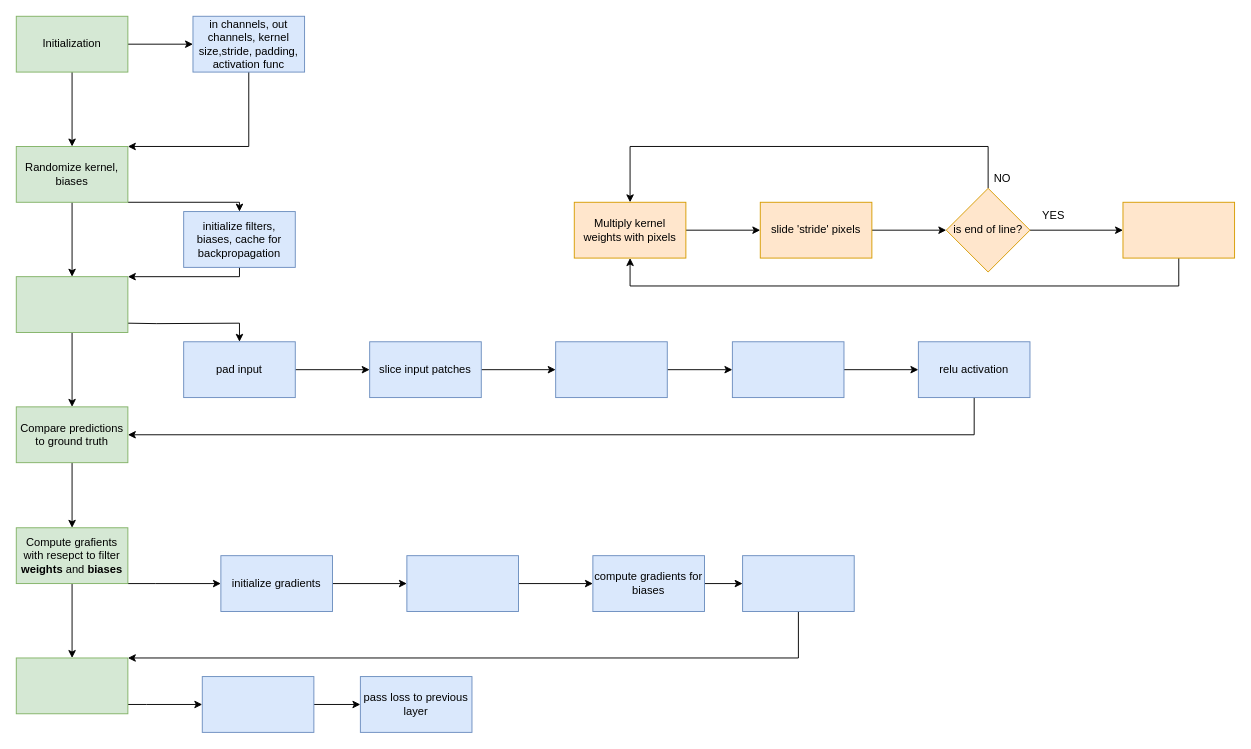
Some shapes in this 1251 by 749 pixel diagram are drawn without their labels. Here are the shapes that lost their labels. From the top down, the centre of each, then its label:
(1178,229): slide 'stride' pixels down and to the beginning of row
(71,304): Forward pass
(611,369): preform convolution
(787,369): add bias
(462,583): compute gradient for filters
(798,583): compute gradient for inputs
(71,685): Update weights using optimization (SGD)
(257,704): update filters and biases
